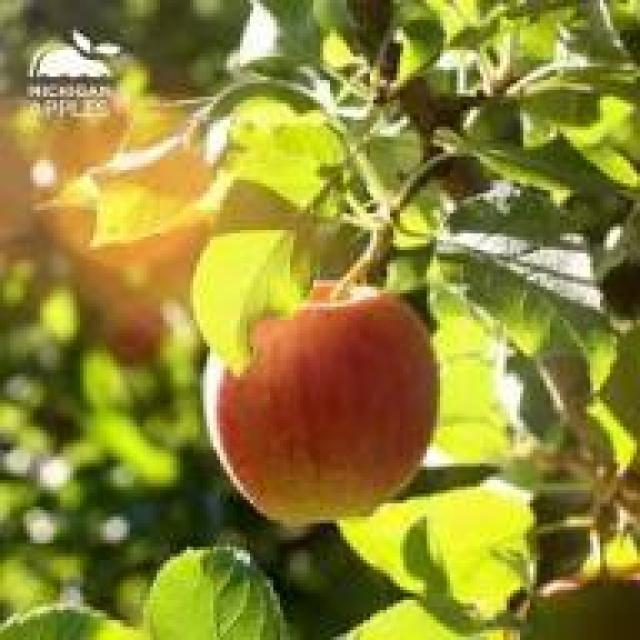apple: (203, 300, 447, 537)
